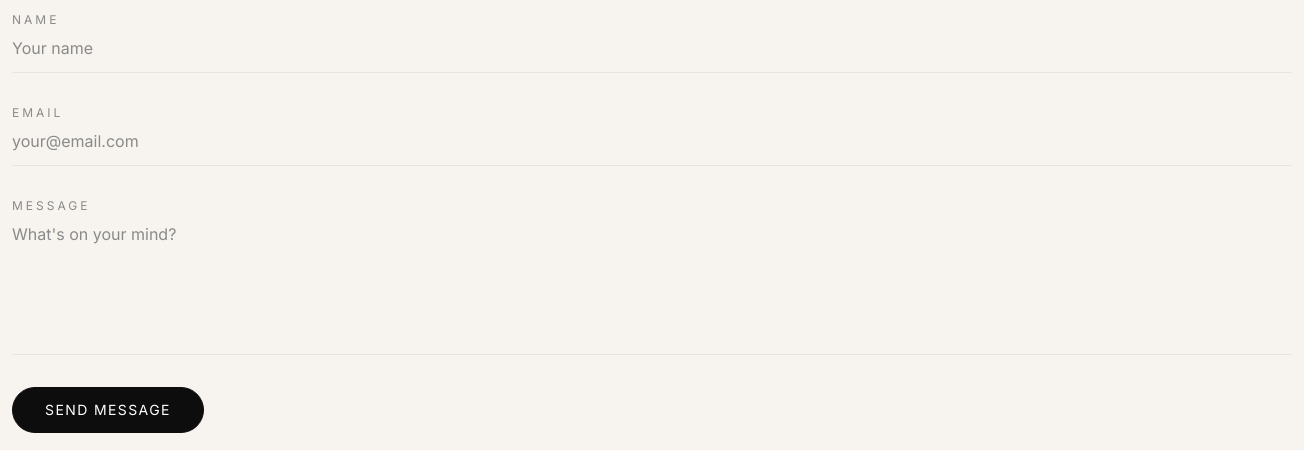
Scenario: ContactForm › shows error message on non-ok response
Type "Mo" into the field labelled "Name" at (652, 54), box [12,36,1292,73]
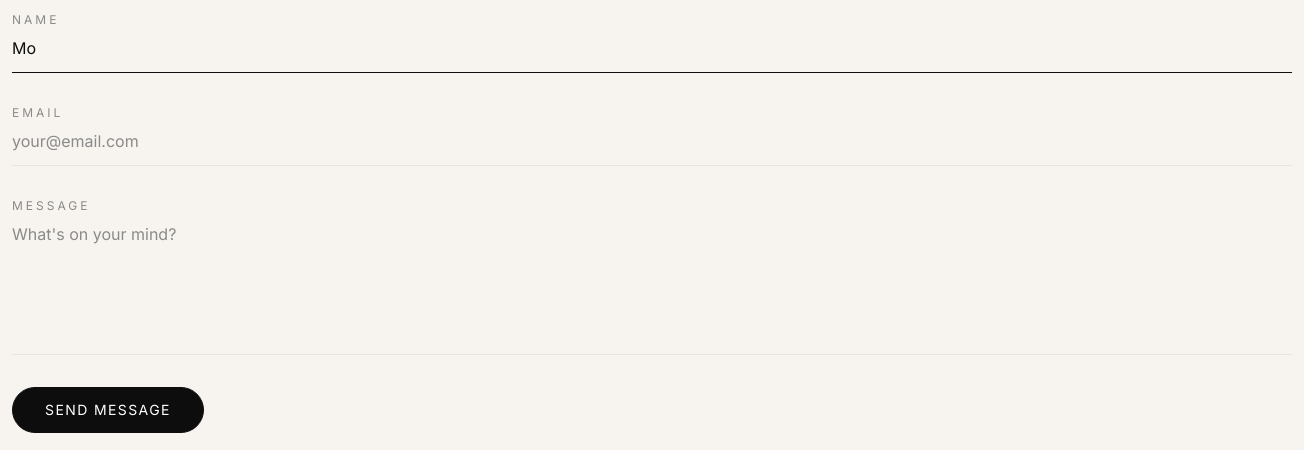
Type "mo@example.com" into the field labelled "Email" at (652, 148), box [12,129,1292,166]
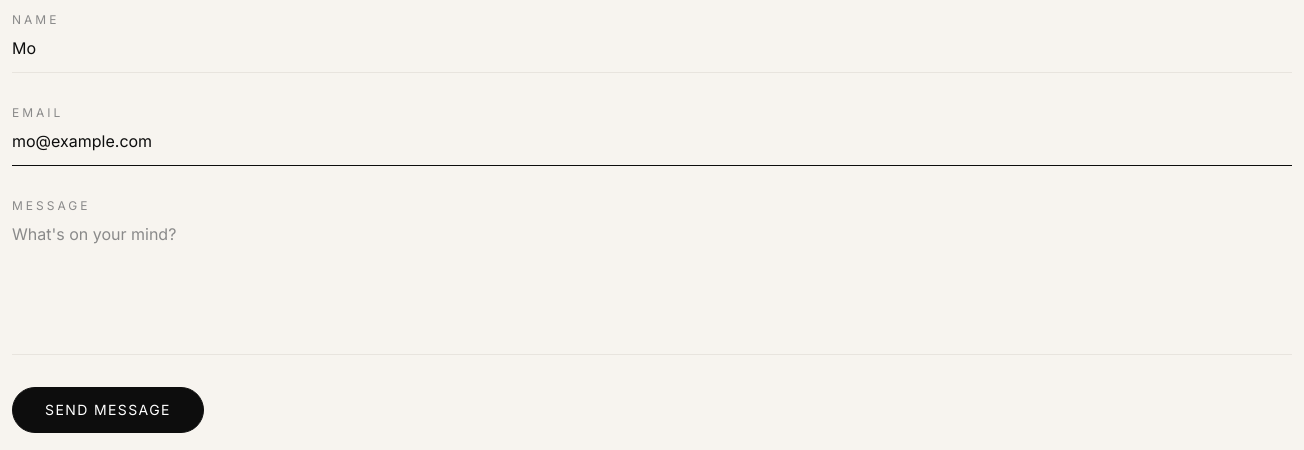
Type "Hello" into the text box labelled "Message" at (652, 288), box [12,222,1292,355]
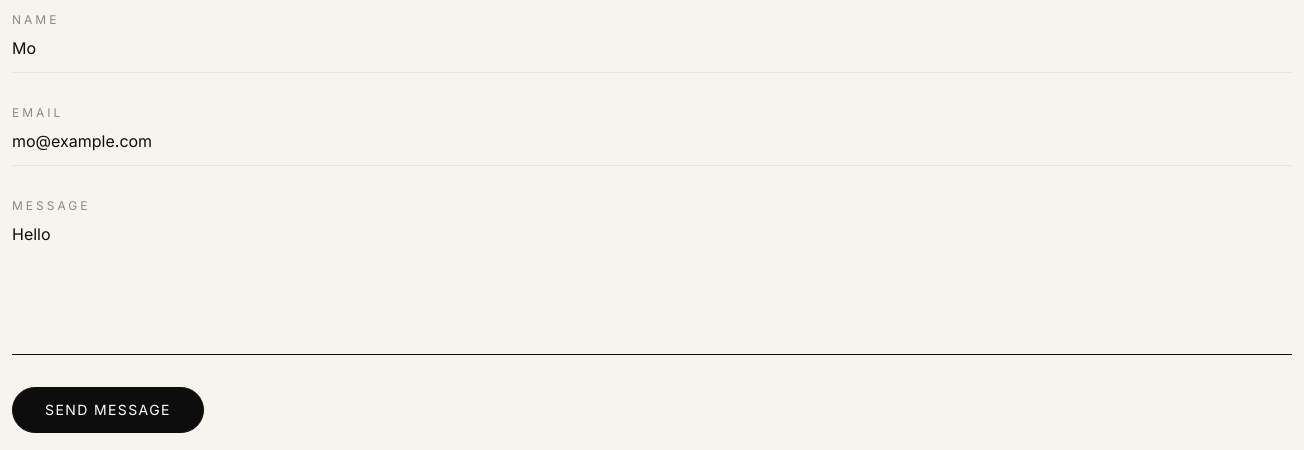
Click the button "Send Message" at (108, 410), box [12,387,204,433]
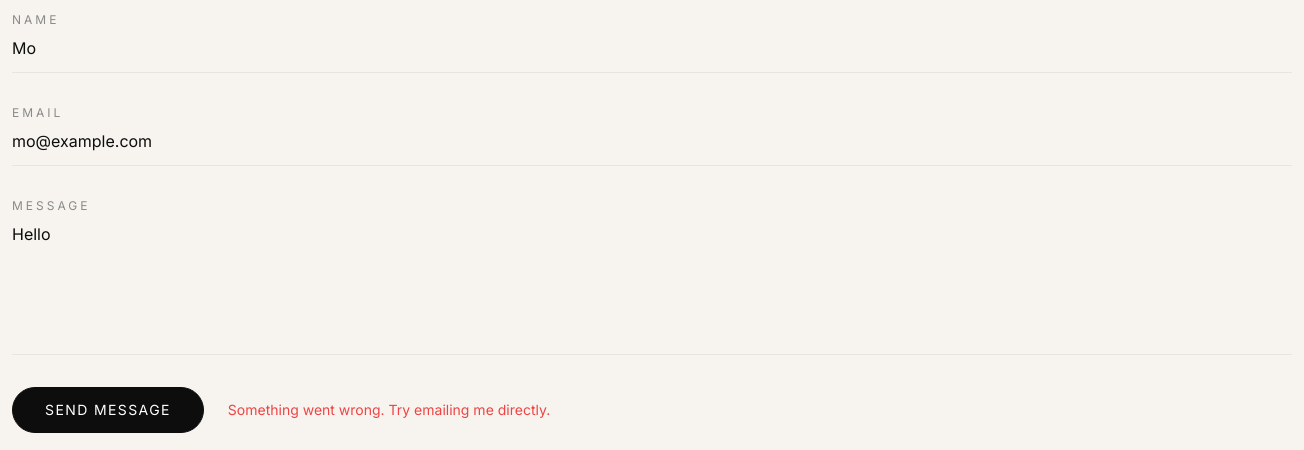
Now the text "Something went wrong. Try emailing me directly." is shown, box [228,400,550,420]
